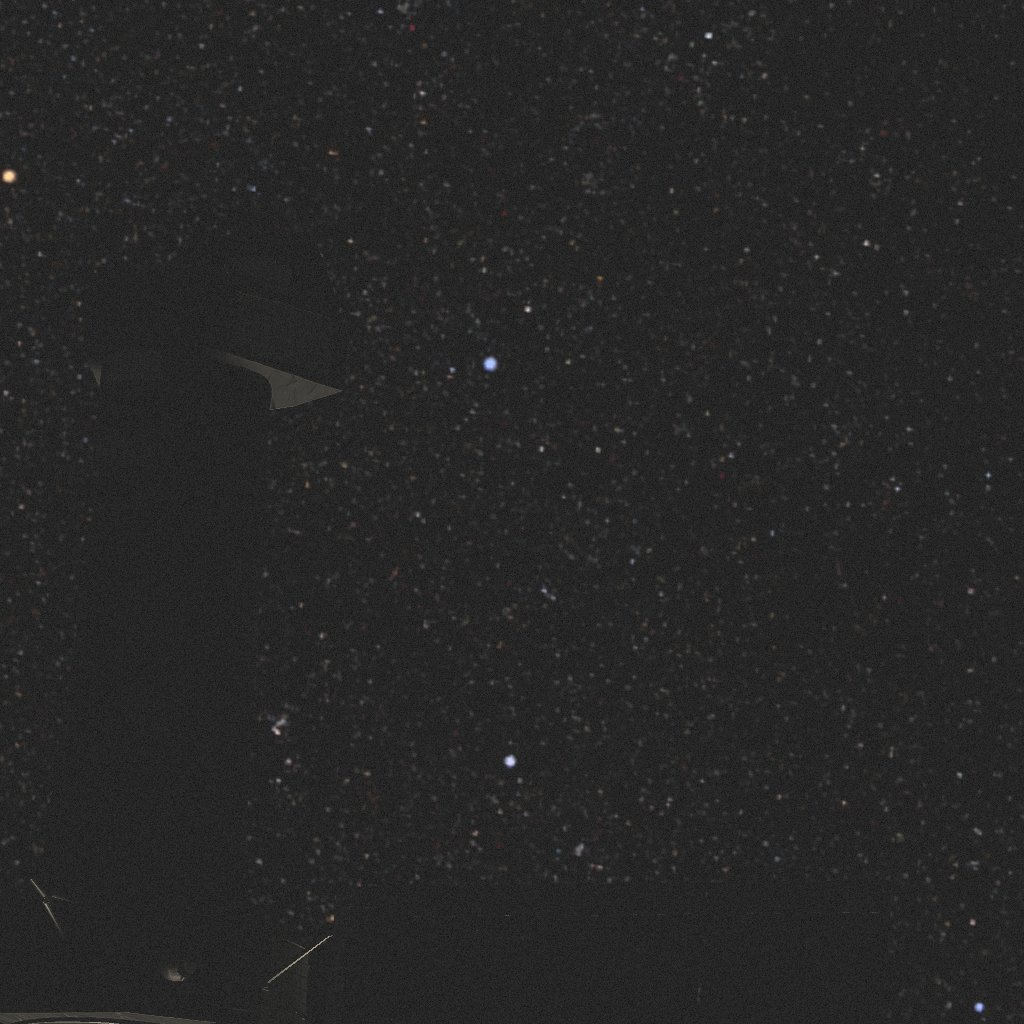xmm_newton: (0, 232, 893, 1024)
